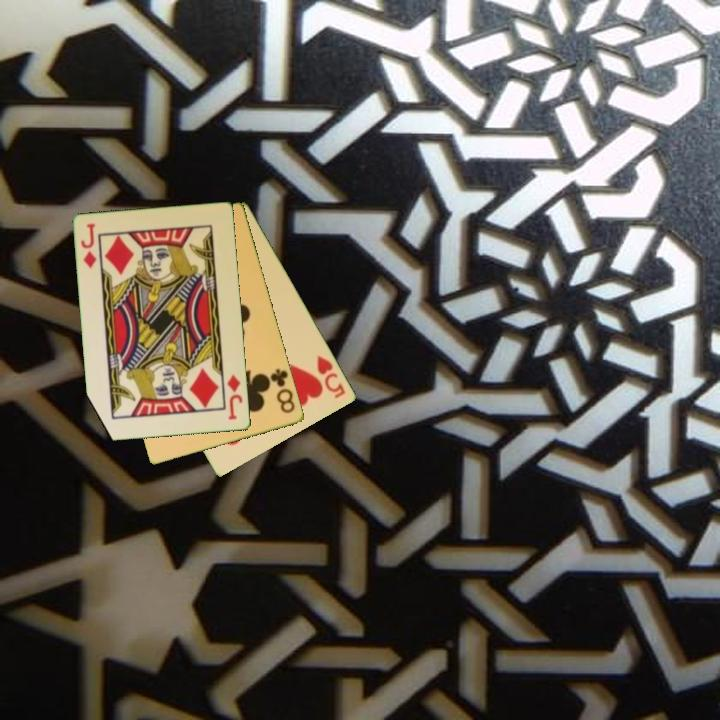5h: (314, 352, 349, 401)
8c: (267, 365, 298, 416)
Jd: (224, 371, 246, 423), (78, 220, 100, 271)
